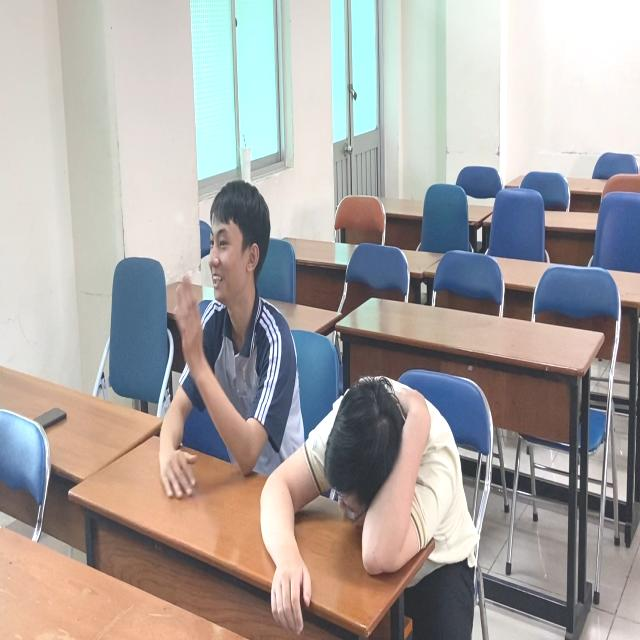sleep: (254, 366, 499, 601)
